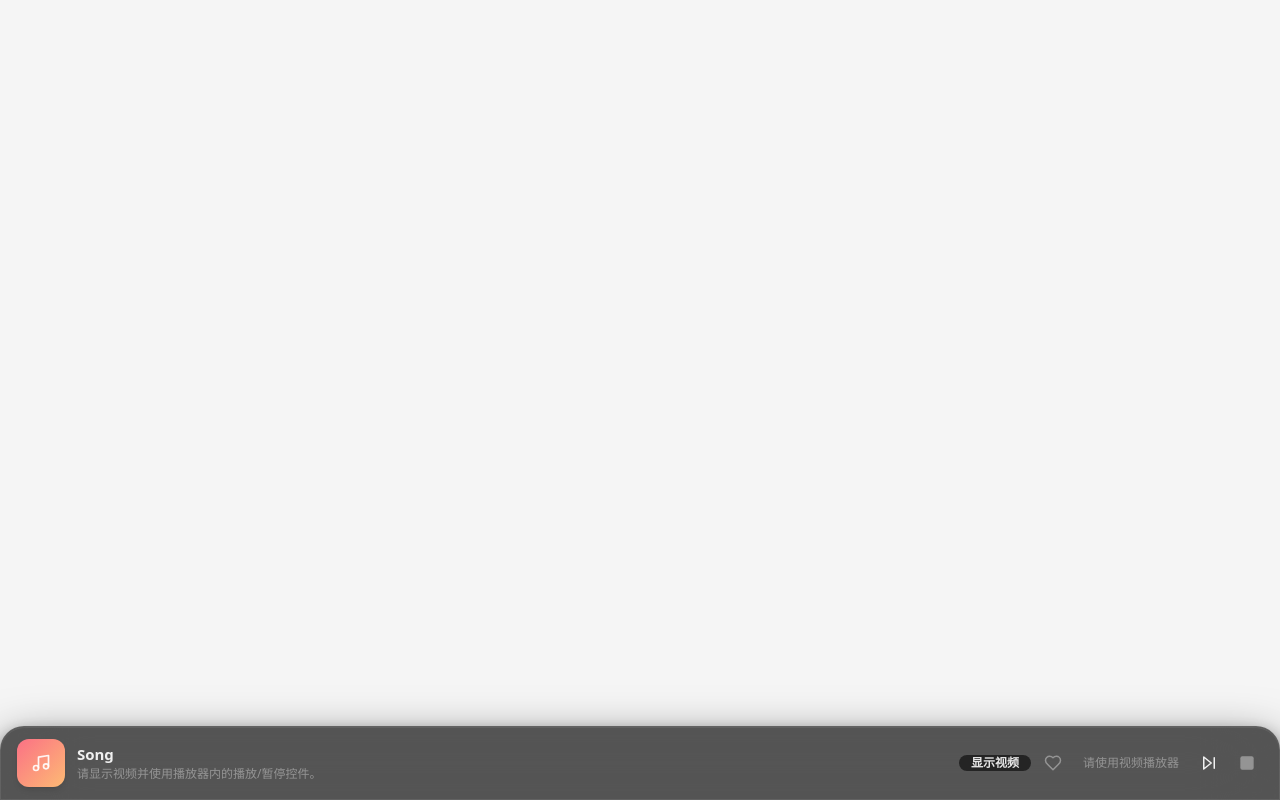
Test: PlayerBar embed controls › labels unsupported shuffle, previous, and repeat controls as unavailable
Click the button named "展开播放器".
click(41, 763)  # box x1=17 y1=739 x2=65 y2=787
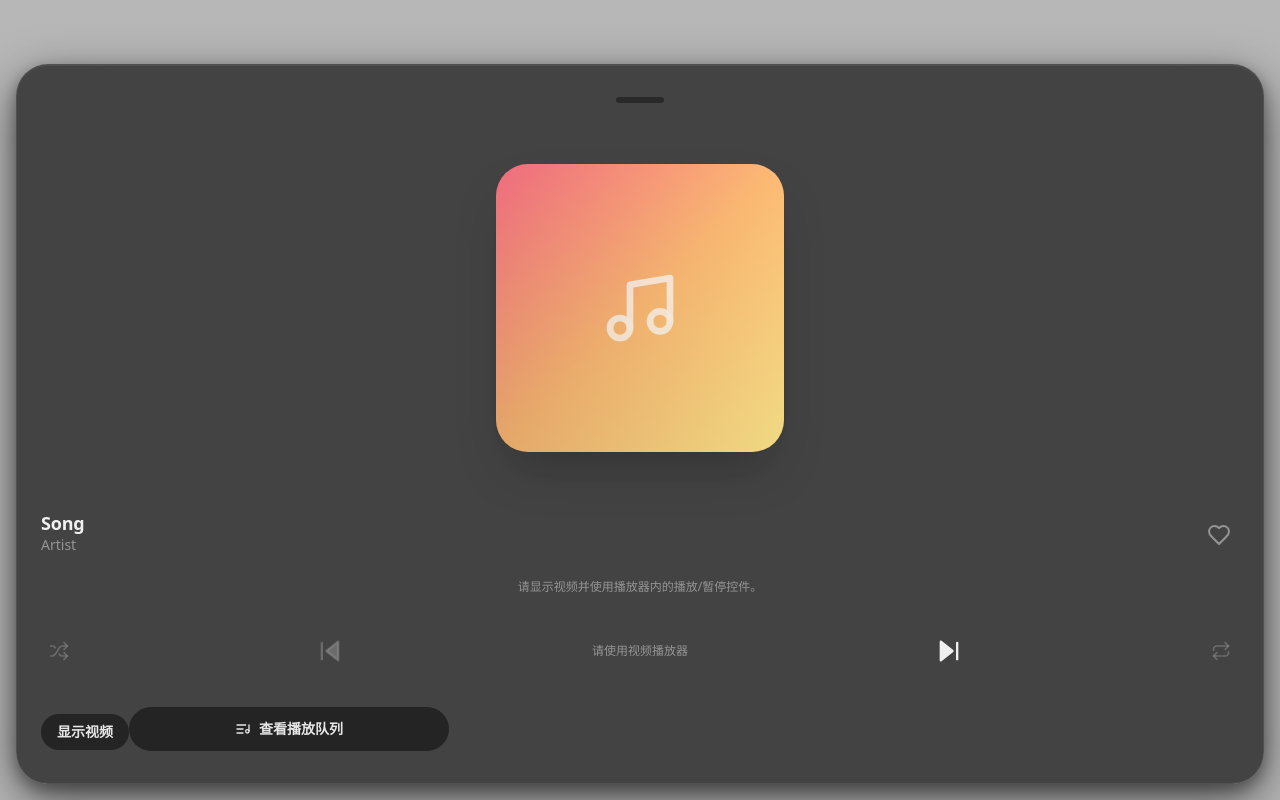
Expected: the button named "随机（暂不支持）" is disabled, x1=41 y1=633 x2=77 y2=669
Expected: the button named "上一首（暂不支持）" is disabled, x1=308 y1=629 x2=352 y2=673
Expected: the button named "循环（暂不支持）" is disabled, x1=1203 y1=633 x2=1239 y2=669
